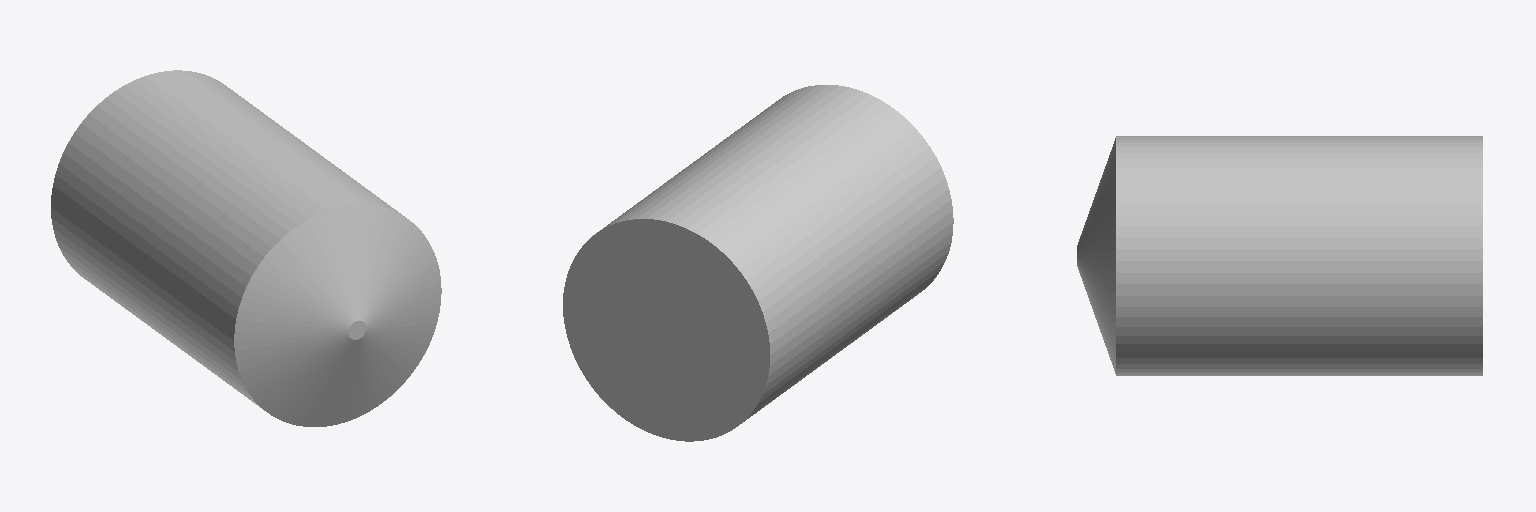
File: Candle4.obj
3 views of the same model, side by side, from view 1: azimuth 30°, elevation 25°; view 2: azimuth 150°, elevation 25°; view 3: azimuth 270°, elevation 25° (orthographic).
Visible parts, largest first — view 1: Candle4_Cylinder.006; view 2: Candle4_Cylinder.006; view 3: Candle4_Cylinder.006.
Part boxes in pixels (x1,y1,x2,y2): Candle4_Cylinder.006: (51, 70, 441, 426); Candle4_Cylinder.006: (563, 85, 953, 441); Candle4_Cylinder.006: (1077, 136, 1482, 375).
Bounding box in the file's own units: 0.2018 × 0.2018 × 0.3417.